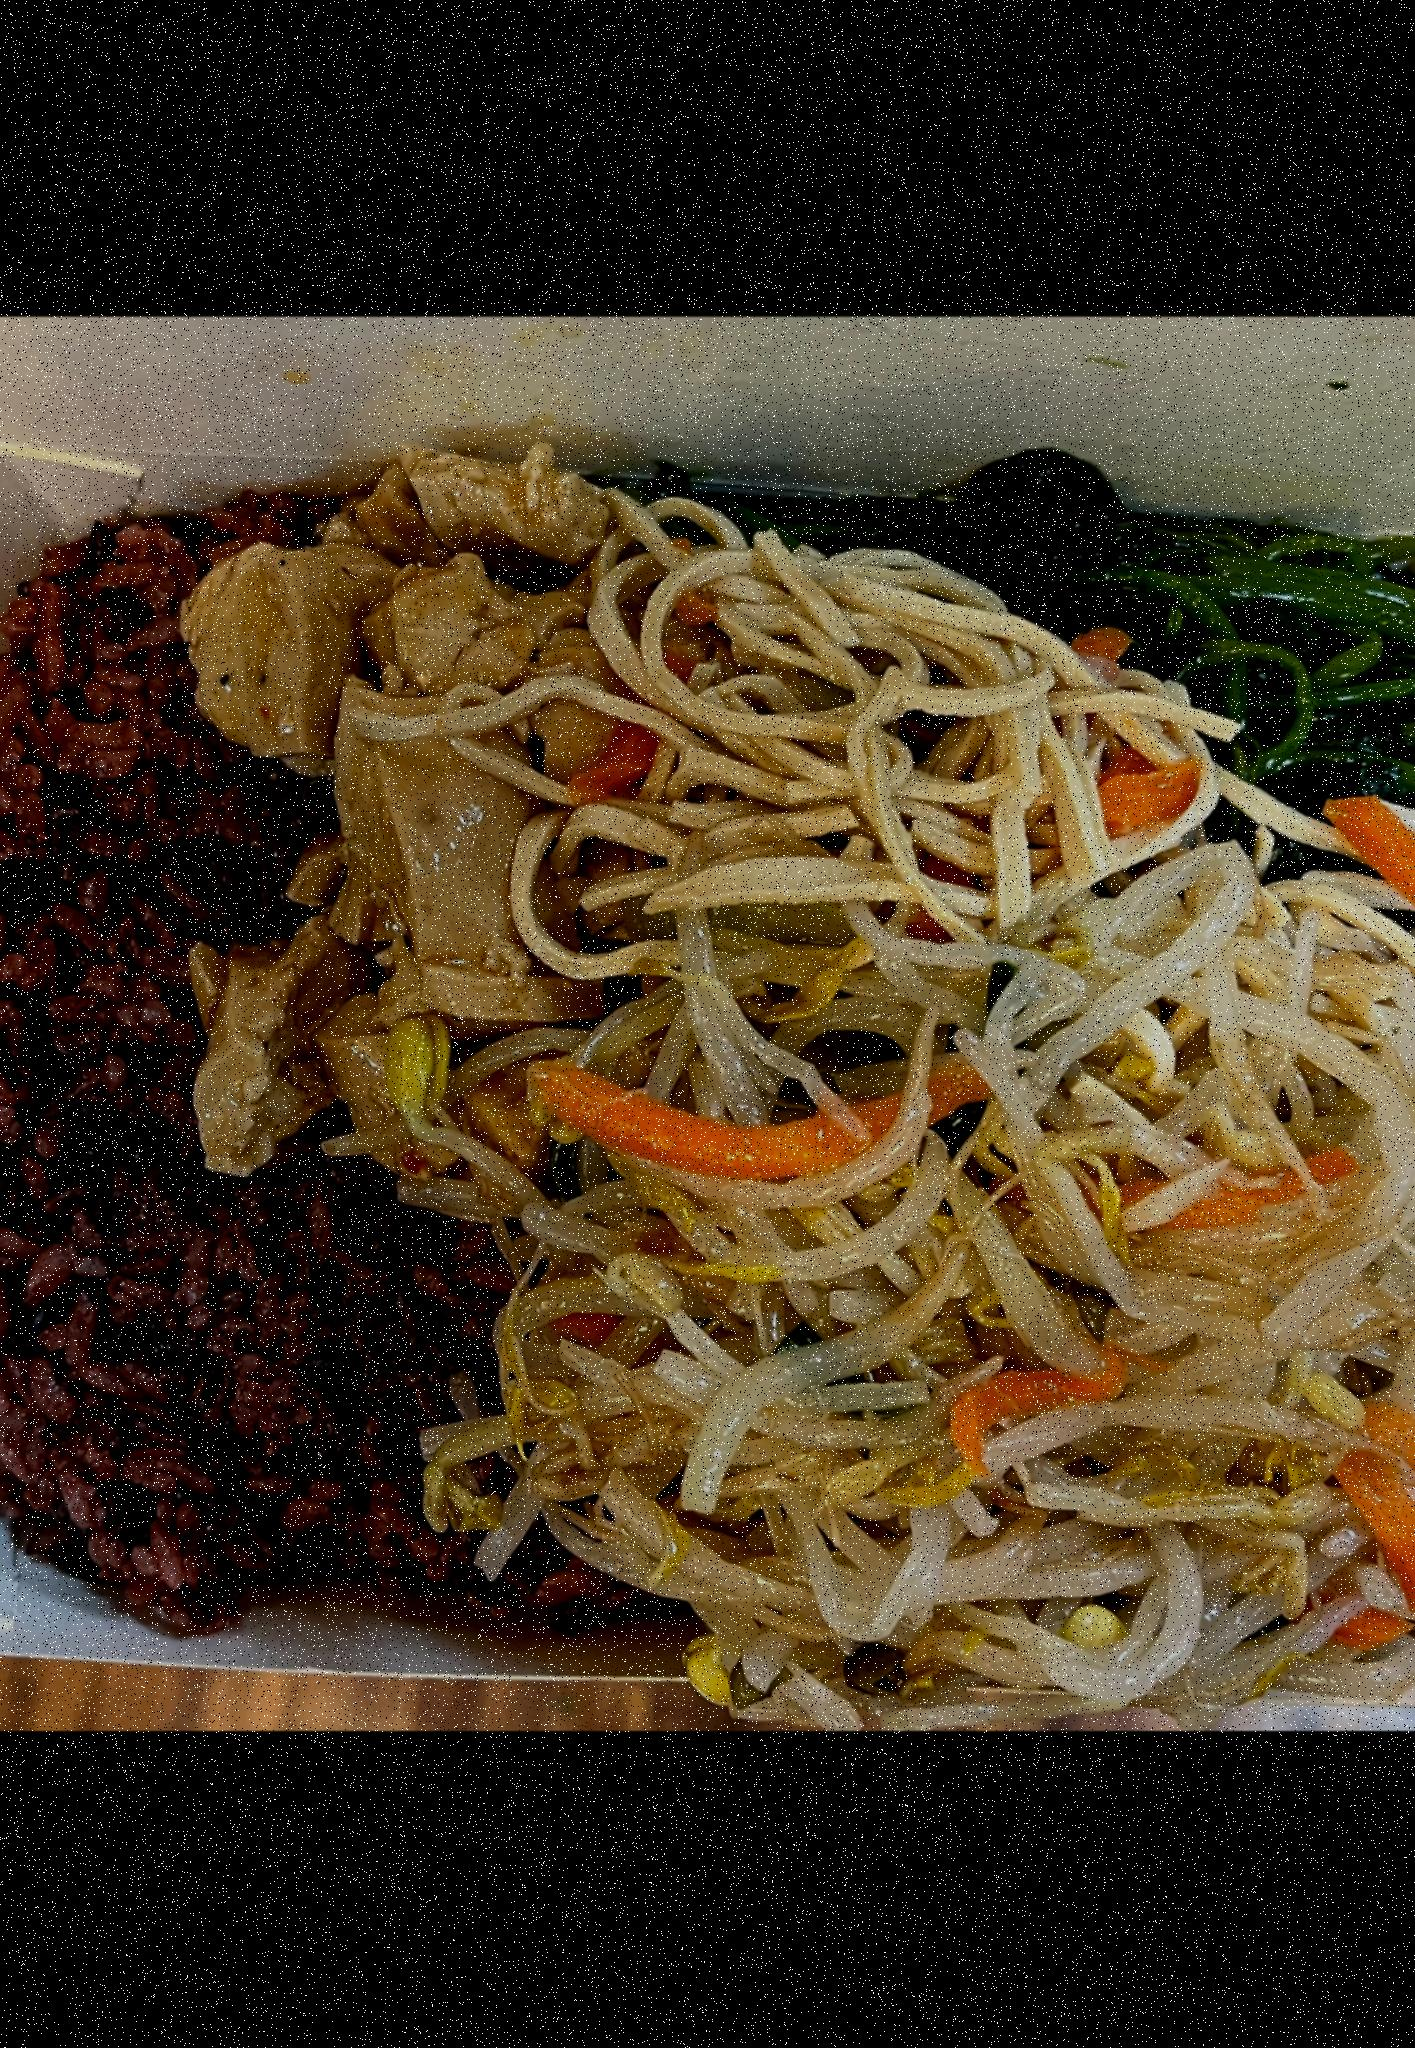box: (0, 386, 1415, 1723)
purple rice: (0, 472, 694, 1601)
side dish: (528, 506, 1415, 1695), (171, 430, 613, 1243), (743, 456, 1415, 850)
